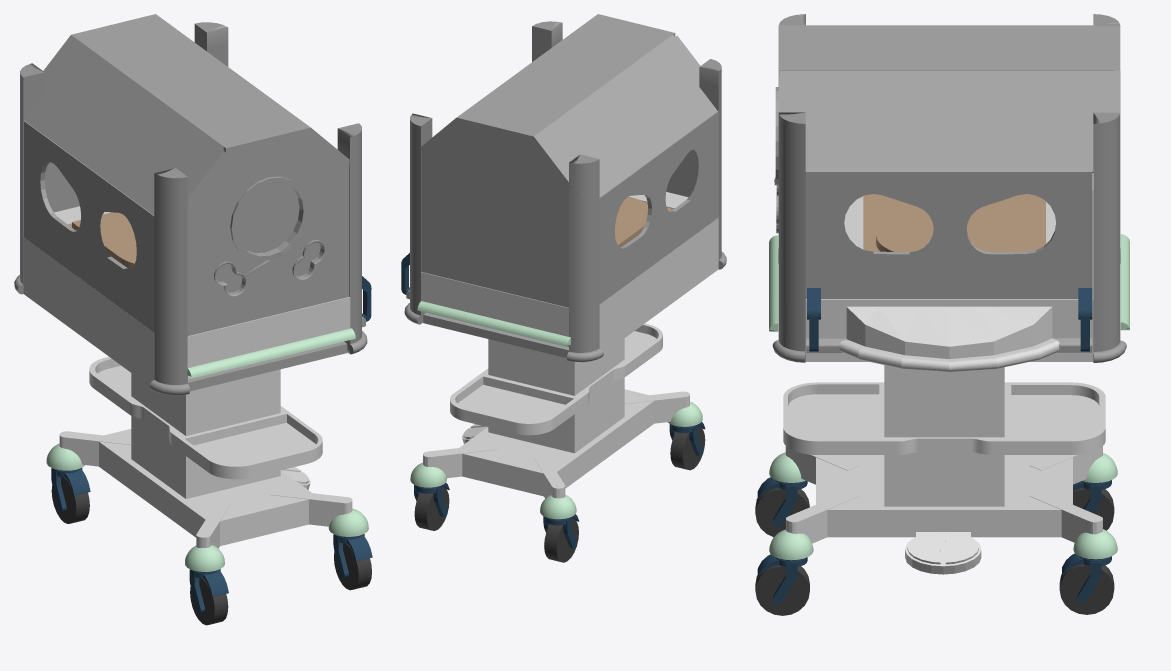
The model's file is Incubator 1.fbx.
The picture shows the model from 3 angles, left to right: view 1: azimuth 30°, elevation 25°; view 2: azimuth 150°, elevation 25°; view 3: azimuth 270°, elevation 25°; orthographic projection. The views are drawn at different scales.
Visible parts, largest first — view 1: pCube14, pCylinder21, pCube29, pCube42, pCube43, pCube44, pCylinder18, pCylinder19, pCylinder29 (×3), pSphere2 (×3), pCube39, pCylinder22 (+7 smaller); view 2: pCube14, pCube28, pCylinder21, pCube29, pCube42, pCube43, pCube44, pCylinder17, pCylinder29 (×3), pCylinder15, pSphere2 (×3), pCube40 (+7 smaller); view 3: pCube28, pCube30, pCylinder21, pCube43, pCube14, pCube42, pCube44, pCube31, pCylinder15, pCylinder19, pCylinder29 (×4), pSphere2 (×4) (+10 smaller).
Boxes of the visible parts, box(x1,y1,x2,y2) form: pCube14: box(25, 14, 349, 335); pCylinder21: box(23, 237, 350, 385); pCube29: box(24, 120, 154, 332); pCube42: box(131, 369, 280, 498); pCube43: box(89, 357, 322, 479); pCube44: box(99, 429, 311, 545); pCylinder18: box(149, 168, 189, 395); pCylinder19: box(337, 123, 367, 354); pCylinder29 (×3): box(51, 477, 371, 625); pSphere2 (×3): box(46, 443, 368, 571); pCube39: box(188, 341, 347, 391); pCylinder22: box(187, 328, 355, 378); pCube14: box(456, 14, 717, 197); pCube28: box(419, 118, 568, 307); pCylinder21: box(421, 218, 718, 352); pCube29: box(599, 111, 718, 303); pCube42: box(488, 338, 624, 453); pCube43: box(450, 323, 662, 435); pCube44: box(459, 389, 654, 496); pCylinder17: box(567, 154, 603, 362); pCylinder29 (×3): box(414, 426, 705, 562); pCylinder15: box(404, 113, 432, 324); pSphere2 (×3): box(410, 402, 702, 519); pCube40: box(423, 312, 568, 357); pCube28: box(779, 70, 1119, 172); pCube30: box(805, 171, 1092, 298); pCylinder21: box(805, 190, 1093, 371); pCube43: box(783, 382, 1105, 454); pCube14: box(774, 25, 1120, 233); pCube42: box(884, 365, 1004, 506); pCube44: box(816, 455, 1072, 537); pCube31: box(863, 194, 1045, 251); pCylinder15: box(1093, 112, 1126, 362); pCylinder19: box(772, 112, 805, 362); pCylinder29 (×4): box(755, 488, 1114, 615); pSphere2 (×4): box(769, 452, 1117, 560).
Size of the model in its own units: 2.02 by 4.44 by 2.49.
